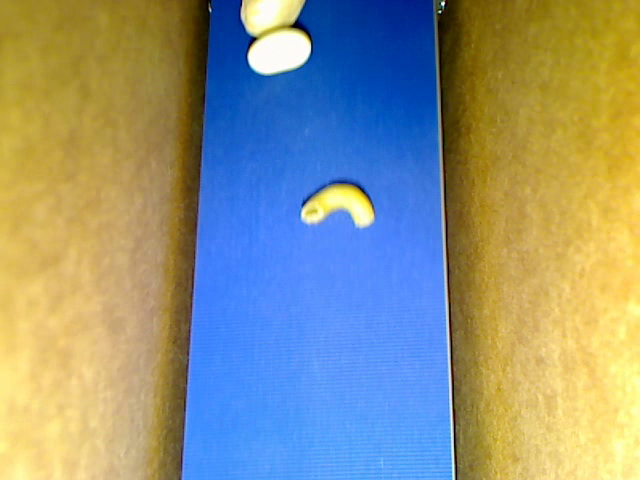elbow: (300, 182, 376, 228)
